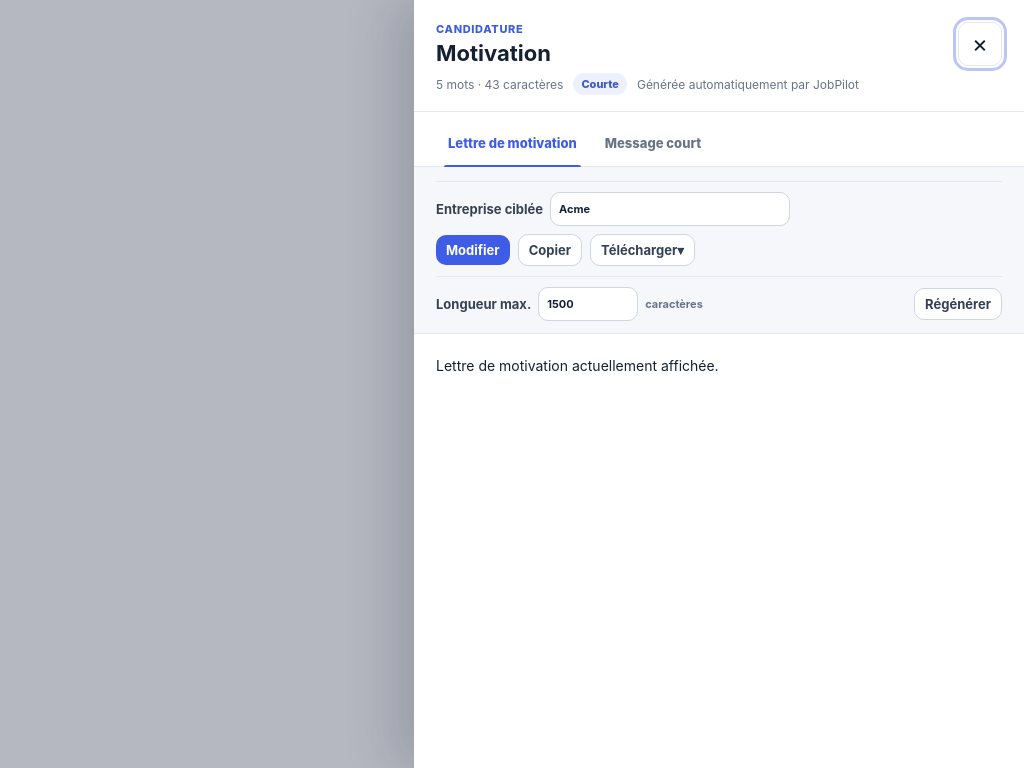
Motivation drawer › groups the cover letter and short message into two tabs
Expected: the dialog "Motivation" is shown, [414,0,1023,767]
Expected: the text "5 mots · 43 caractères" is shown, [436,77,563,92]
Click the tab "Message court". click: (653, 144)
box: [593,122,713,166]
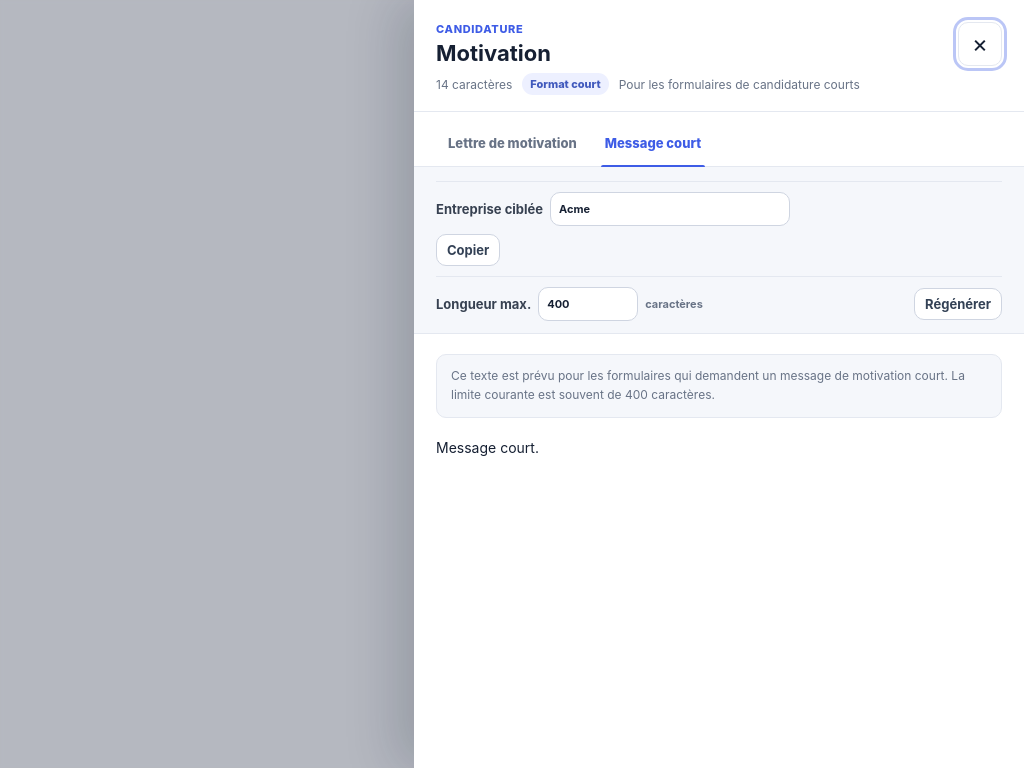
Result: the text "Message court." is shown at [436,439,539,456]
Result: the number field named "Longueur maximale du message court" holds "400" at [538,287,638,321]
